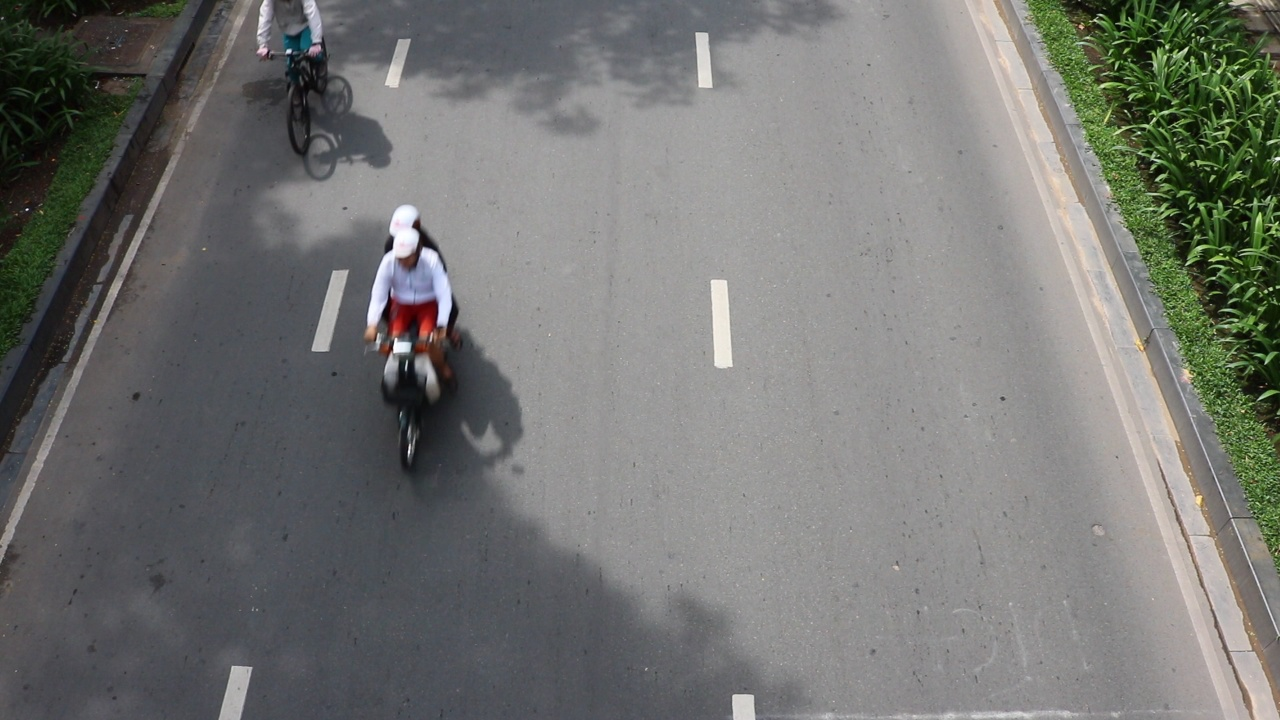bicycle: (281, 41, 351, 165)
motorcycle: (369, 326, 450, 474)
